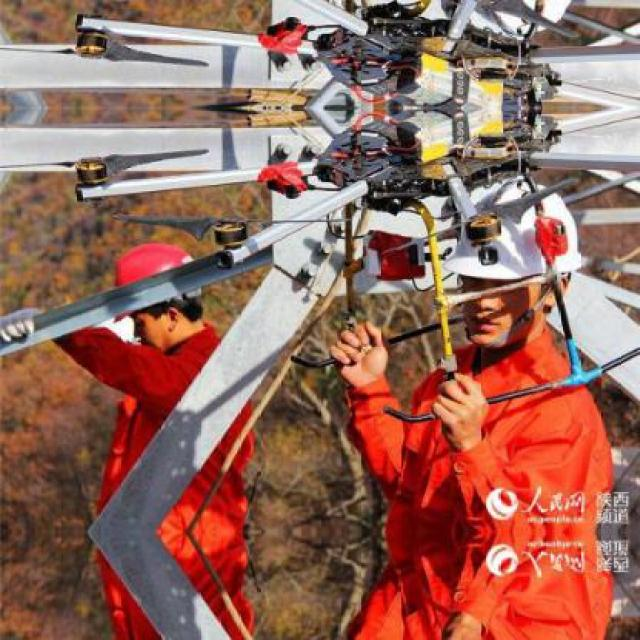helmet: (445, 173, 583, 350), (106, 229, 212, 349), (444, 0, 584, 43)
